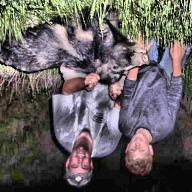boar: (6, 0, 154, 93)
